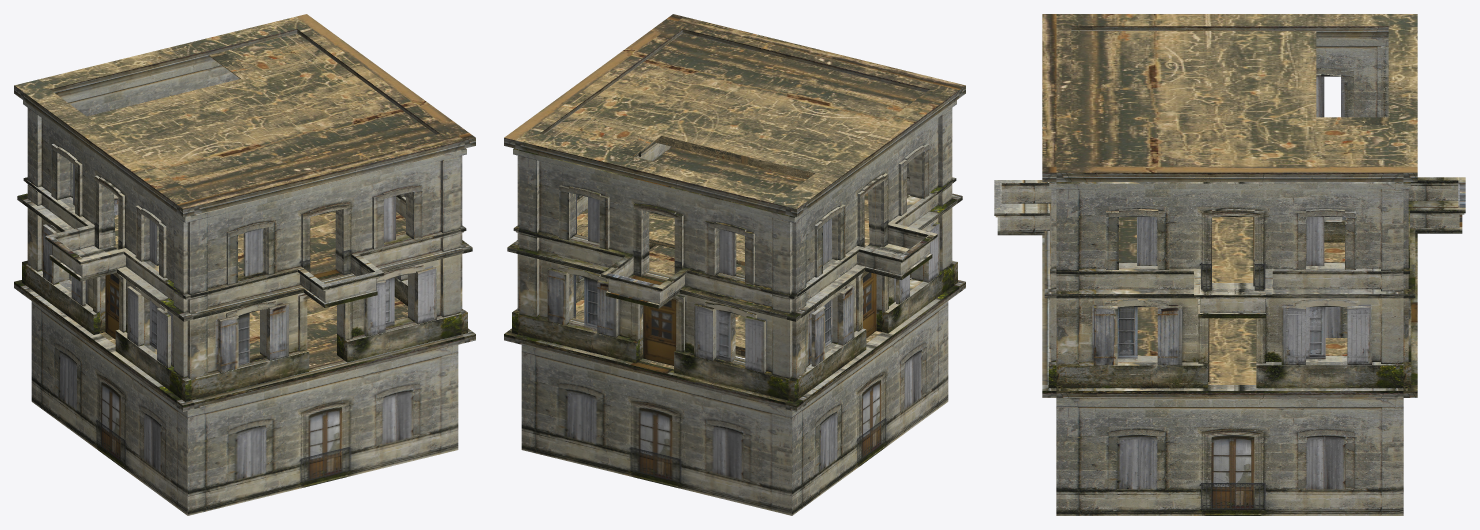
Rendered from BagBuilding20_140.fbx.
The picture shows the model from 3 angles, left to right: view 1: azimuth 30°, elevation 25°; view 2: azimuth 150°, elevation 25°; view 3: azimuth 270°, elevation 25°; orthographic projection. The views are drawn at different scales.
Visible parts, largest first — view 1: main140, floors140; view 2: main140, floors140; view 3: main140, floors140.
Boxes of the visible parts, <box> form: main140: <box>14,29,475,515</box>; floors140: <box>14,14,475,368</box>; main140: <box>504,29,965,515</box>; floors140: <box>504,14,965,368</box>; main140: <box>994,26,1465,515</box>; floors140: <box>1042,14,1417,384</box>.
Size of the model in its own units: 22.81 by 18.66 by 22.81.
